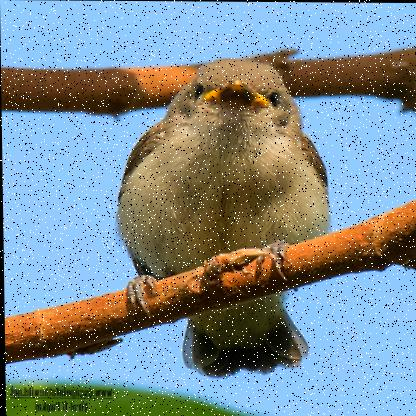Burung: (111, 55, 340, 384)
